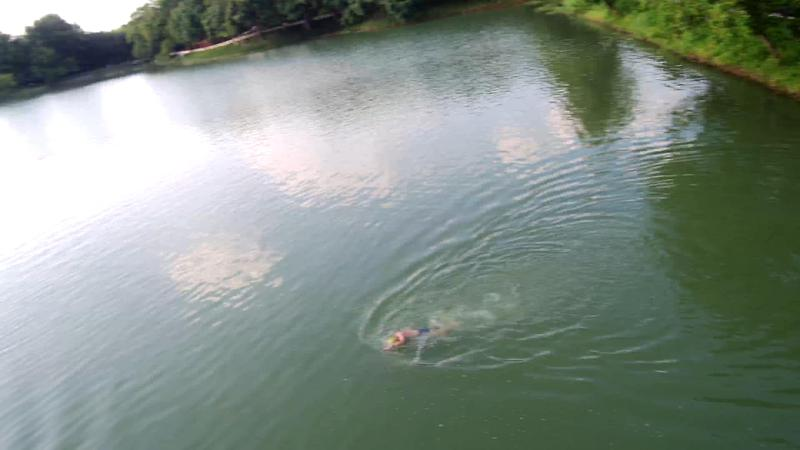swimmers: (384, 320, 457, 351)
